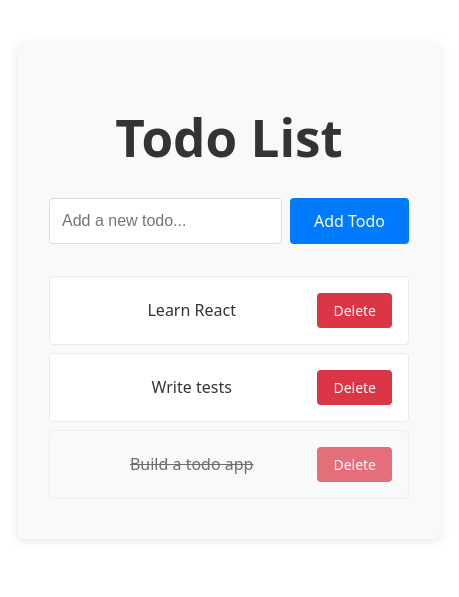
Test case: TodoList Component › handles form submission with Enter key
The image size is (459, 597).
Type "Todo via Enter key" into the field with placeholder "Add a new todo...".
click(166, 221); type("Todo via Enter key")  # box left=49, top=198, right=282, bottom=244
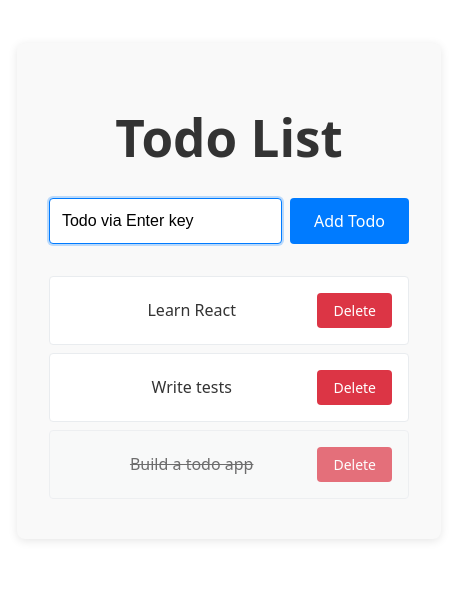
Press Enter
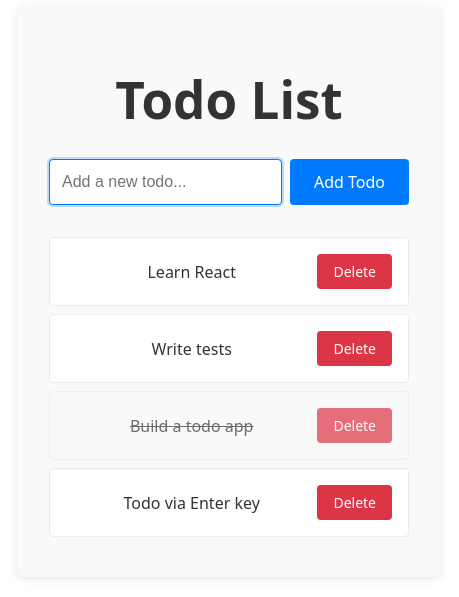
Expected: the text "Todo via Enter key" is shown, left=124, top=492, right=260, bottom=514
Expected: the field with placeholder "Add a new todo..." is empty, left=49, top=159, right=282, bottom=205
